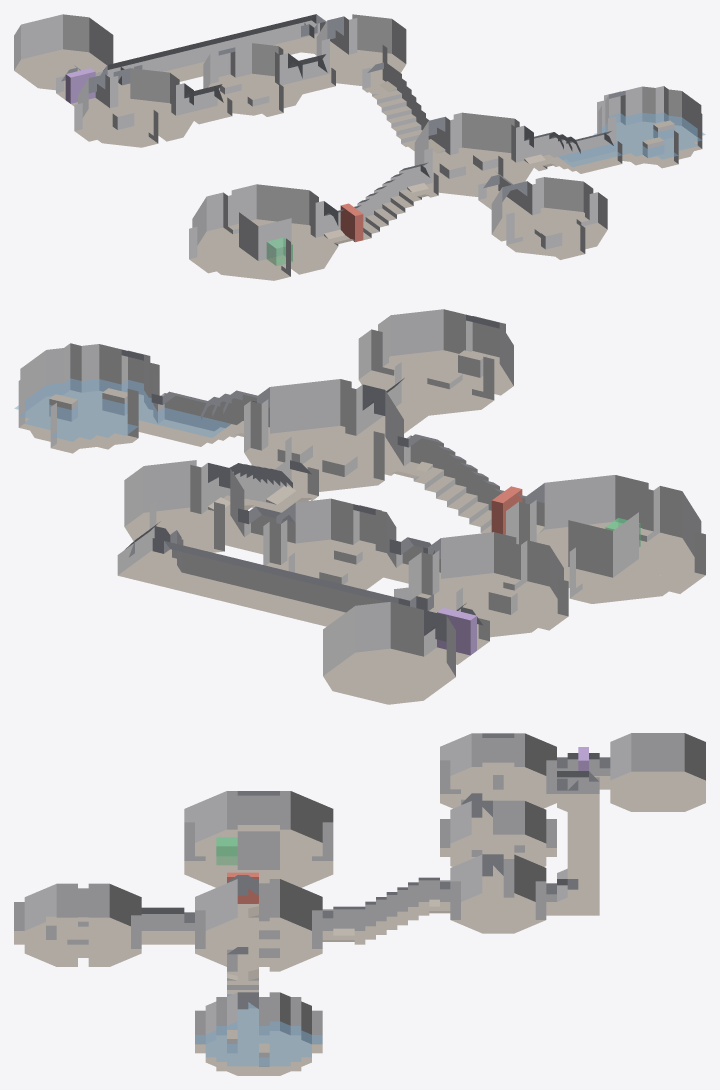
The model's file is pod_mining_03.glb.
3 views of the same model, one above another, from view 1: azimuth 30°, elevation 25°; view 2: azimuth 150°, elevation 25°; view 3: azimuth 270°, elevation 25° (orthographic). The views are drawn at different scales.
Visible parts, largest first — view 1: room:2, room:3, room:1, room:5, room:6, room:7, corridor:7, room:4, room:0, water, corridor:1, corridor:0 (+17 smaller); view 2: room:2, corridor:7, room:1, room:7, room:5, room:3, room:6, room:4, room:0, water, corridor:1, corridor:4 (+20 smaller); view 3: room:2, room:3, room:1, room:7, room:5, room:6, corridor:7, room:0, room:4, corridor:0, water, corridor:2 (+12 smaller).
Part boxes in pixels (bbox=[...]): room:2: bbox=[192, 184, 338, 280]; room:3: bbox=[491, 177, 607, 256]; room:1: bbox=[414, 112, 533, 197]; room:5: bbox=[597, 86, 702, 165]; room:6: bbox=[78, 68, 193, 147]; room:7: bbox=[14, 14, 113, 91]; corridor:7: bbox=[95, 14, 343, 101]; room:4: bbox=[203, 43, 302, 115]; room:0: bbox=[316, 14, 406, 86]; water: bbox=[558, 112, 705, 167]; corridor:1: bbox=[324, 162, 438, 243]; corridor:0: bbox=[362, 62, 445, 154]; room:2: bbox=[506, 475, 701, 603]; corridor:7: bbox=[117, 521, 433, 626]; room:1: bbox=[244, 379, 403, 493]; room:7: bbox=[323, 602, 455, 704]; room:5: bbox=[18, 343, 159, 449]; room:3: bbox=[358, 309, 513, 415]; room:6: bbox=[408, 532, 563, 638]; room:4: bbox=[263, 498, 396, 589]; room:0: bbox=[124, 460, 244, 557]; water: bbox=[14, 378, 230, 441]; corridor:1: bbox=[392, 434, 544, 534]; corridor:4: bbox=[145, 390, 269, 446]; room:2: bbox=[184, 791, 333, 887]; room:3: bbox=[24, 883, 141, 966]; room:1: bbox=[195, 879, 322, 971]; room:7: bbox=[610, 733, 705, 811]; room:5: bbox=[205, 992, 311, 1075]; room:6: bbox=[440, 733, 556, 816]; corridor:7: bbox=[546, 771, 599, 915]; room:0: bbox=[450, 854, 546, 933]; room:4: bbox=[450, 800, 546, 874]; corridor:0: bbox=[322, 877, 450, 944]; water: bbox=[195, 994, 322, 1066]; corridor:2: bbox=[141, 907, 194, 944].
Bounding box in the file's own units: 60 × 10 × 65.
